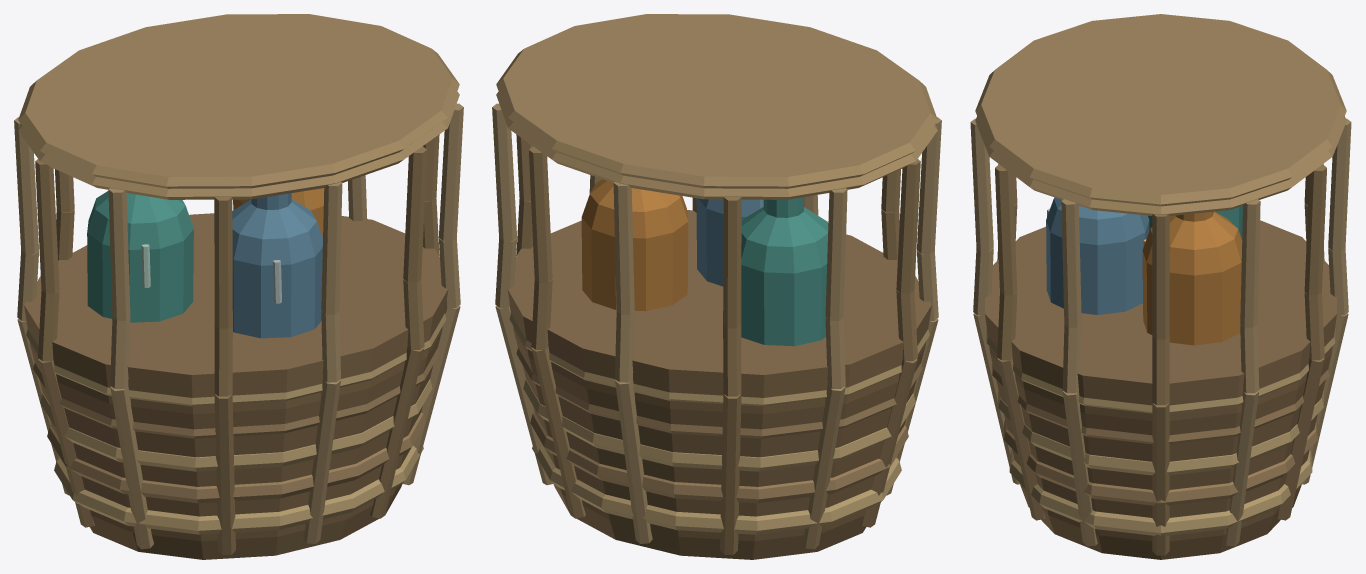
File: bottle_hamper.glb
3 views of the same model, side by side, from view 1: azimuth 30°, elevation 25°; view 2: azimuth 150°, elevation 25°; view 3: azimuth 270°, elevation 25° (orthographic). The views are drawn at different scales.
Parts seen in each view (by area): view 1: bottle_hamper; view 2: bottle_hamper; view 3: bottle_hamper.
Part boxes in pixels (left/top/right/bottom): bottle_hamper: left=14, top=14, right=463, bottom=559; bottle_hamper: left=492, top=14, right=941, bottom=559; bottle_hamper: left=970, top=14, right=1351, bottom=559.
Bounding box in the file's own units: 0.567 × 0.54 × 0.4819.
